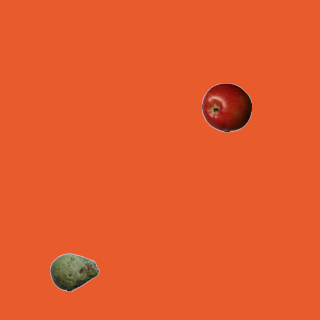Apple Braeburn: (201, 82, 251, 132)
Pear Stone: (49, 247, 99, 297)
